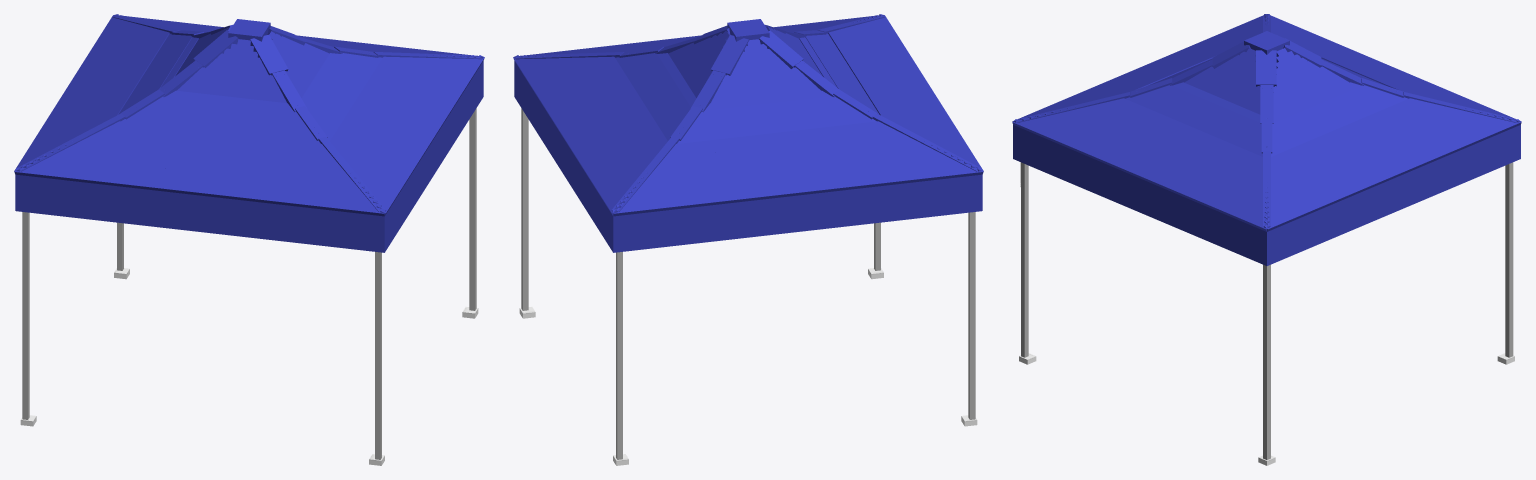
The model's file is tent_blue_y45.obj.
3 renders of one model, left to right at view 1: azimuth 30°, elevation 25°; view 2: azimuth 150°, elevation 25°; view 3: azimuth 270°, elevation 25°, orthographic. The views are drawn at different scales.
Visible parts, largest first — view 1: text2, text3, cube1.005, cube2.005, stem1, cube3.005, cube4.005, stem4, cube5.001, cube6.001, stem3, cube7.001 (+61 smaller); view 2: text1, text0, cube1.003, cube2.003, stem1, cube3.003, cube4.003, stem4, cube5, cube6, stem2, cube7 (+61 smaller); view 3: text0, text3, cube1.006, cube1.004, stem2, stem3, stem4, cube2.004, cube2.006, cube3.004, cube3.006, cube4.004 (+44 smaller).
Boxes of the visible parts, box(x1,y1,x2,y2) form: text2: box(15, 174, 386, 252); text3: box(386, 63, 482, 249); cube1.005: box(15, 168, 385, 216); cube2.005: box(22, 164, 381, 208); stem1: box(22, 212, 29, 419); cube3.005: box(29, 161, 377, 204); cube4.005: box(36, 158, 373, 199); stem4: box(469, 108, 476, 310); cube5.001: box(43, 154, 368, 194); cube6.001: box(50, 151, 364, 189); stem3: box(375, 252, 381, 459); cube7.001: box(58, 147, 360, 185); text1: box(619, 175, 976, 252); text0: box(514, 62, 618, 252); cube1.003: box(612, 168, 982, 216); cube2.003: box(616, 164, 975, 208); stem1: box(968, 212, 975, 419); cube3.003: box(620, 161, 968, 204); cube4.003: box(624, 158, 961, 199); stem4: box(521, 108, 528, 310); cube5: box(629, 154, 954, 194); cube6: box(633, 151, 947, 189); stem2: box(616, 252, 622, 459); cube7: box(637, 147, 939, 185); text0: box(1263, 125, 1520, 265); text3: box(1017, 126, 1262, 264); cube1.006: box(1264, 119, 1521, 233); cube1.004: box(1012, 119, 1269, 231); stem2: box(1505, 162, 1513, 357); stem3: box(1020, 162, 1028, 357); stem4: box(1263, 264, 1270, 459); cube2.004: box(1020, 117, 1269, 224); cube2.006: box(1264, 117, 1513, 224); cube3.004: box(1027, 116, 1269, 219); cube3.006: box(1264, 116, 1506, 219); cube4.004: box(1035, 114, 1268, 214).
Bounding box in the file's own units: 5.27 × 3.66 × 5.27.
